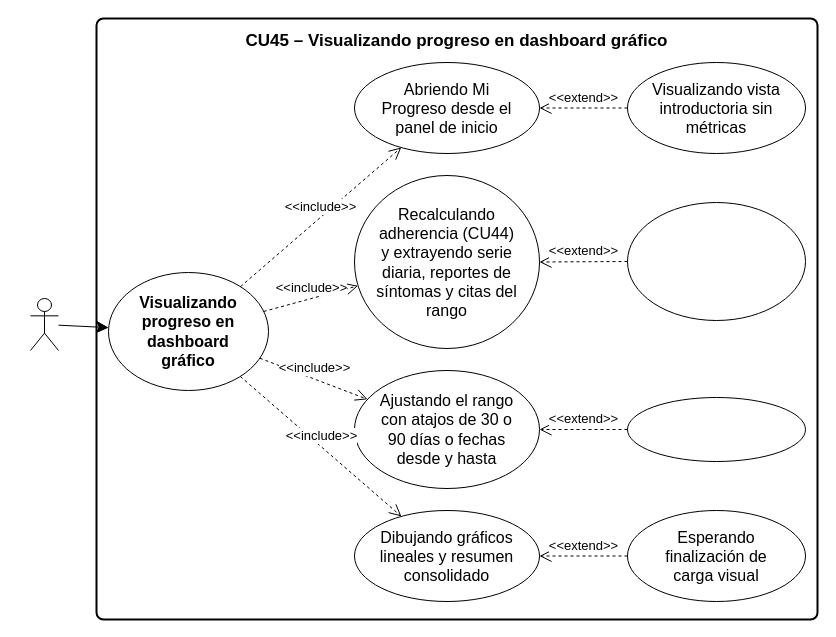
The diagram is 836 pixels wide and 637 high, and some of its shapes have lost their labels. Here are the shapes that lost their labels. From the top down, the box of each, then its label:
(626, 202, 806, 320): Mostrando los valores en texto ante fallo del gráfico
(30, 298, 58, 350): Paciente
(626, 396, 806, 462): Corrigiendo rango temporal inválido
